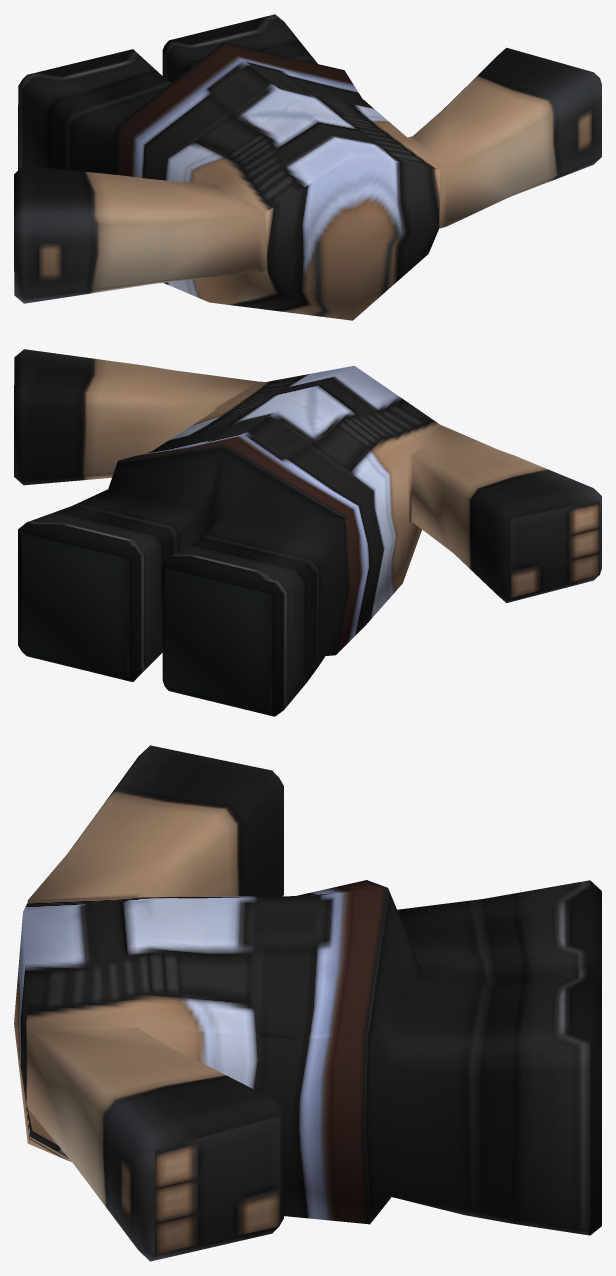
The model's file is Avatar_Joe_H_Body_3_867e1d93__Avatar_Joe_C_abbe05d7_c1f257.obj.
3 views of the same model, one above another, from view 1: azimuth 30°, elevation 25°; view 2: azimuth 150°, elevation 25°; view 3: azimuth 270°, elevation 25° (orthographic). The views are drawn at different scales.
Size of the model in its own units: 1.41 by 0.504 by 0.882.
Materials: 1 (1 with a texture image).
